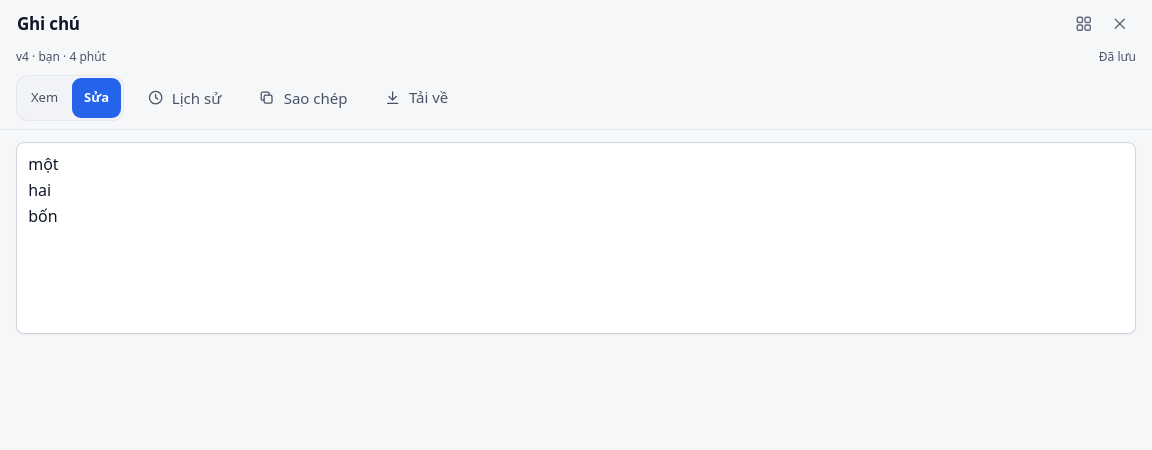
Test: what the history reads › reads a version again when it is picked again after its read failed, and stops saying so
Click the button "Lịch sử": (184, 98) [132,80,236,116]
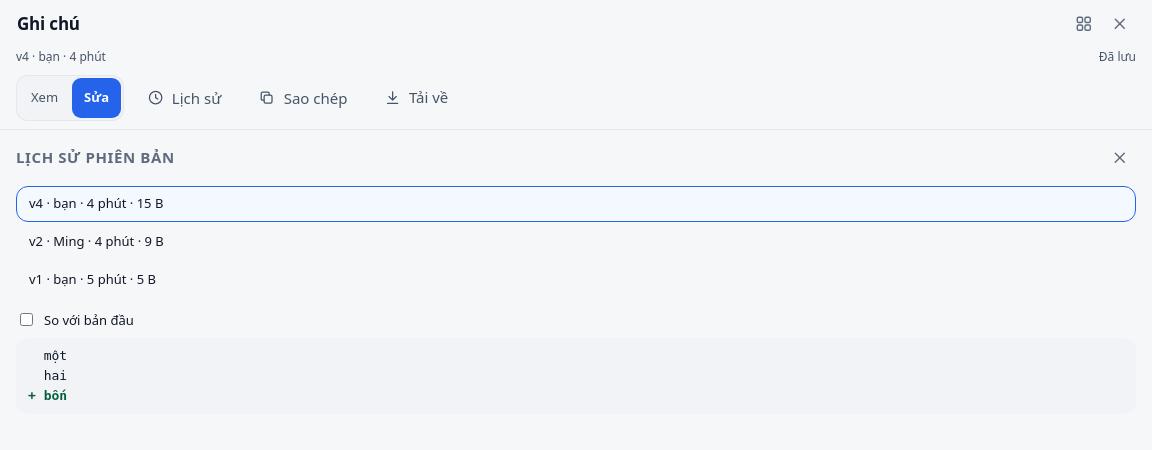
Click the button "v1 · bạn · 5 phút · 5 B": (92, 279) [16,262,1136,298]
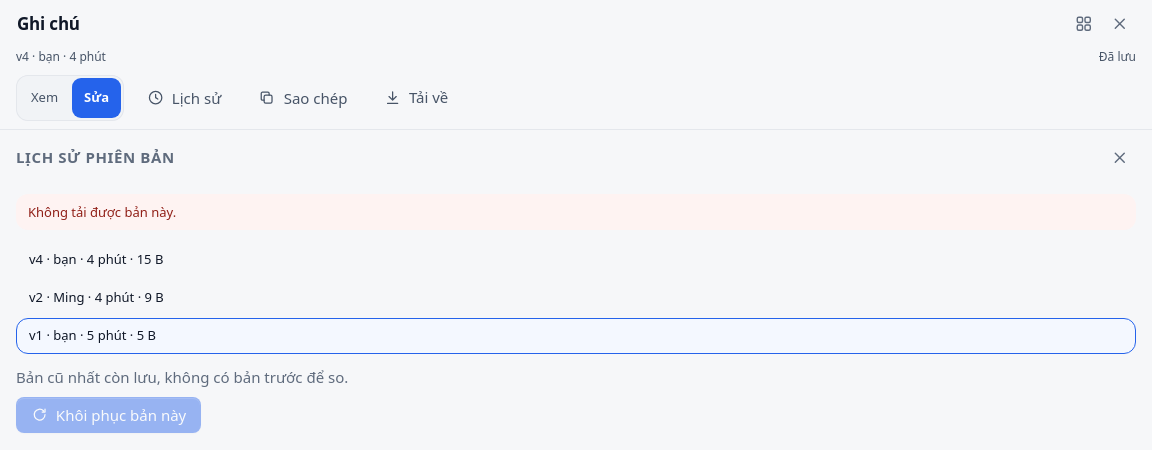
Check: the message "Không tải được bản này." is shown, box [16,194,1136,230]
Check: the element with class "canvas-diff" is gone
Click the button "v1 · bạn · 5 phút · 5 B": (92, 335) [16,318,1136,354]
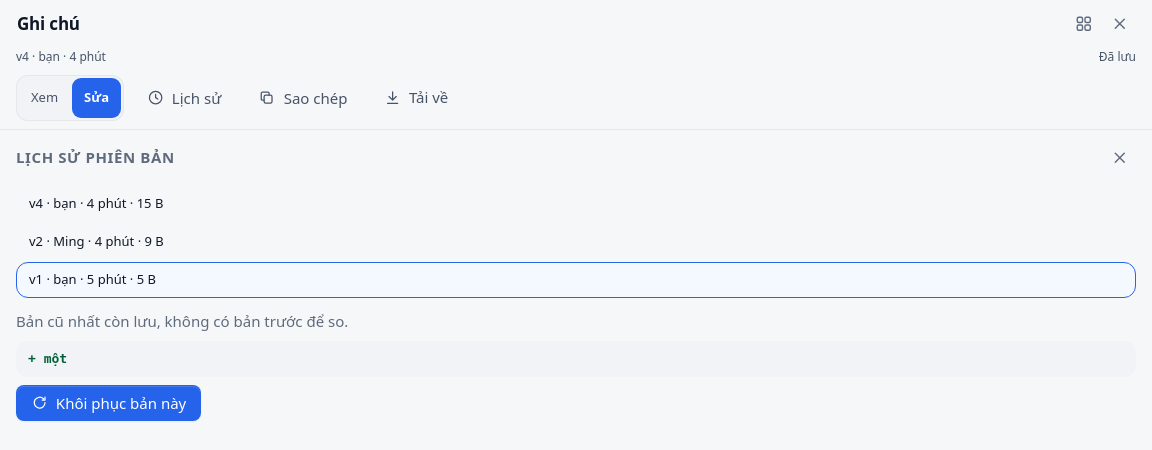
Check: the message "Không tải được bản này." is gone
Check: the text "+ một" is shown, box [28,351,67,366]
